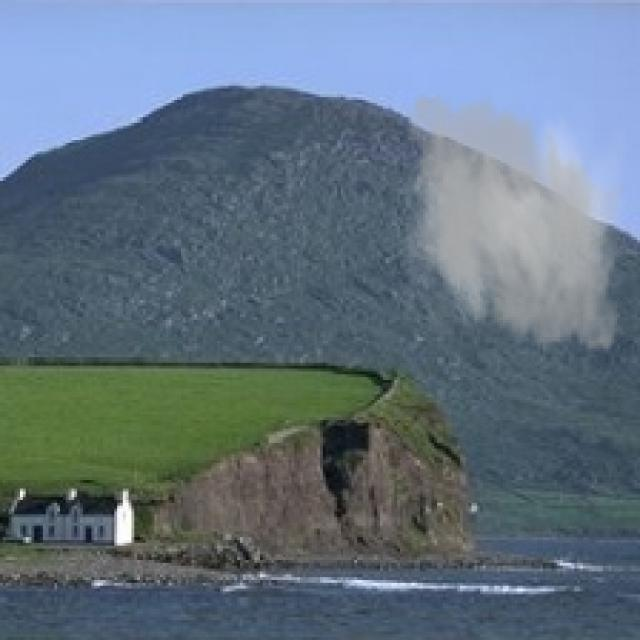Smoke: (386, 83, 638, 363)
